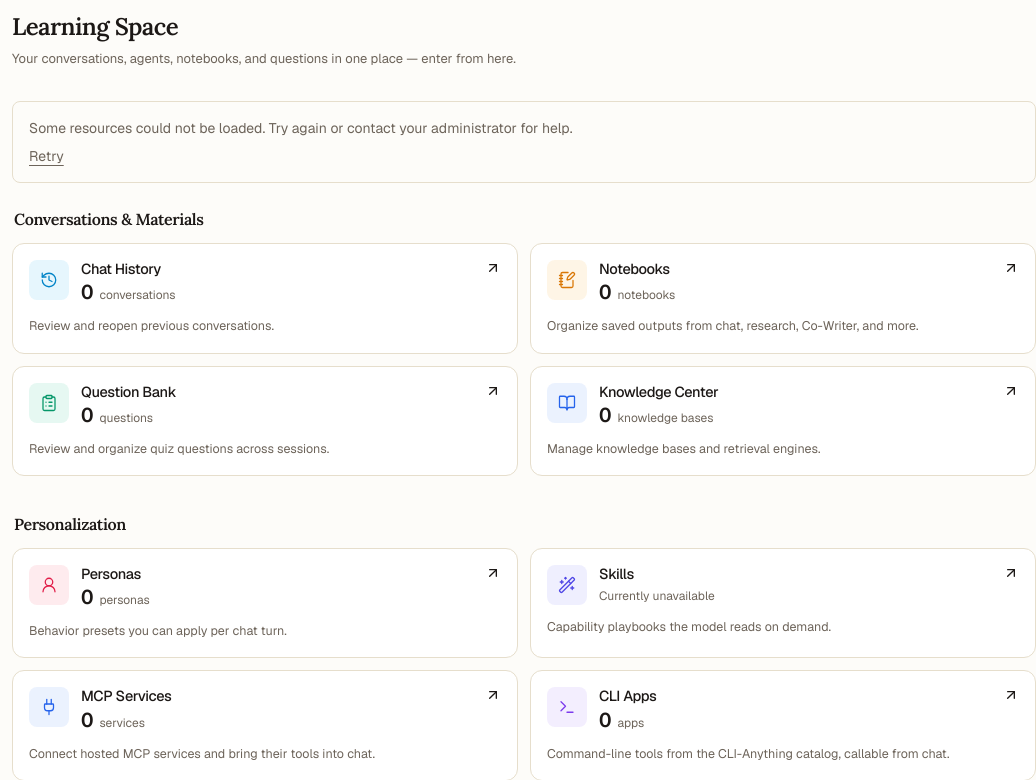
Test case: ends failed tile loading with an actionable message and a working retry
The image size is (1036, 780).
Expected: the message shows "Some resources could not be loaded. Try again or contact your administrator for help.", left=29, top=119, right=572, bottom=137
Expected: the text "Currently unavailable" is shown, left=599, top=587, right=715, bottom=605
Click the button "Retry" at (46, 156), box left=29, top=146, right=64, bottom=166
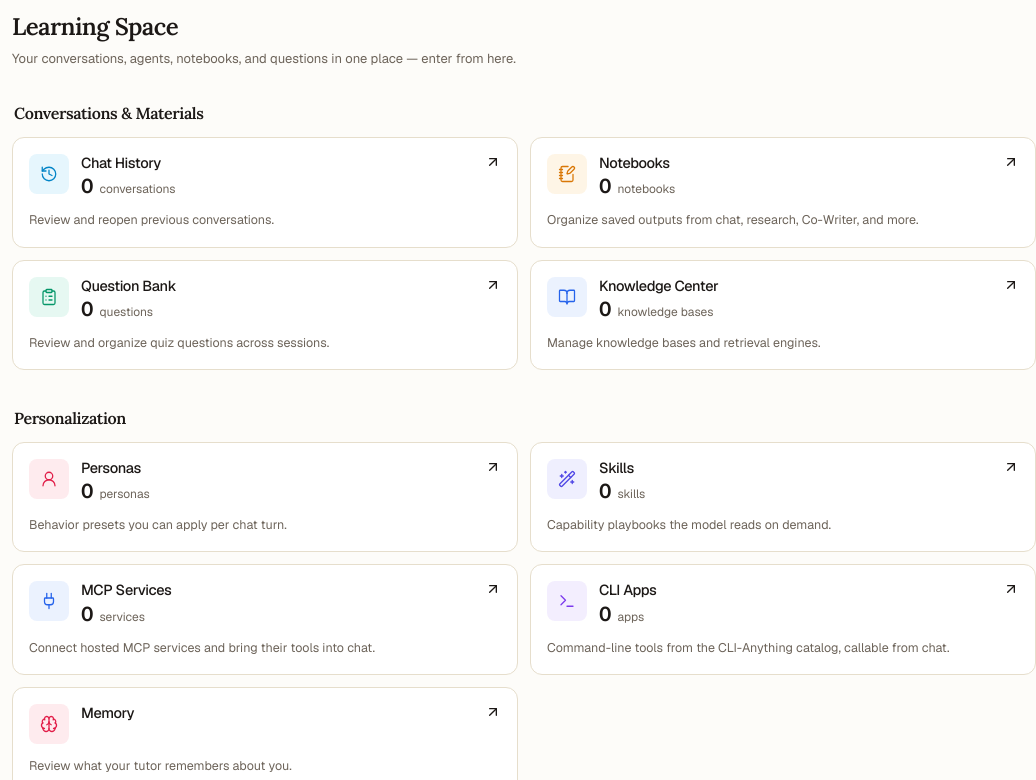
Expected: the link "Currently unavailable" is gone
Expected: the message "Some resources could not be loaded. Try again or contact your administrator for" is gone
Expected: the link "Skills" reads "Skills 0 skills Capability playbooks the model reads on demand.", left=530, top=442, right=1035, bottom=552
